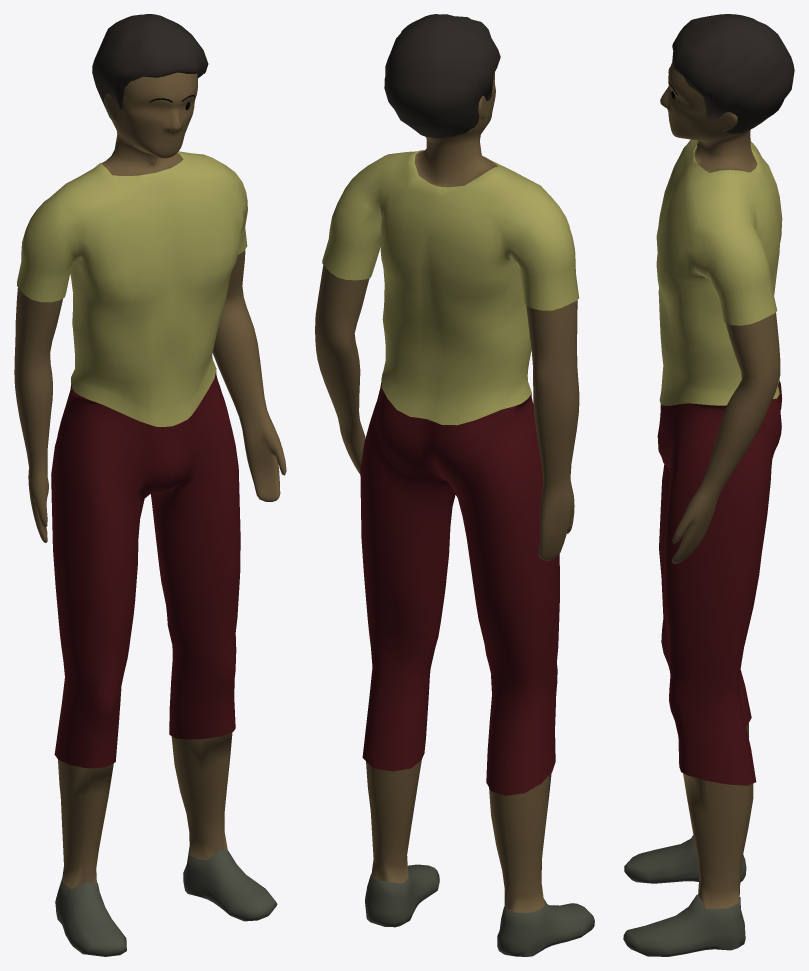
File: Male_Talking_2.glb
3 renders of one model, left to right at view 1: azimuth 30°, elevation 25°; view 2: azimuth 150°, elevation 25°; view 3: azimuth 270°, elevation 25°, orthographic. The views are drawn at different scales.
Parts seen in each view (by area): view 1: Male-Talking-2; view 2: Male-Talking-2; view 3: Male-Talking-2.
Boxes of the visible parts, x1,y1,x2,y2 form: Male-Talking-2: [14, 14, 286, 956]; Male-Talking-2: [315, 14, 594, 956]; Male-Talking-2: [623, 14, 794, 956].
Bounding box in the file's own units: 0.4858 × 1.69 × 0.2919.
